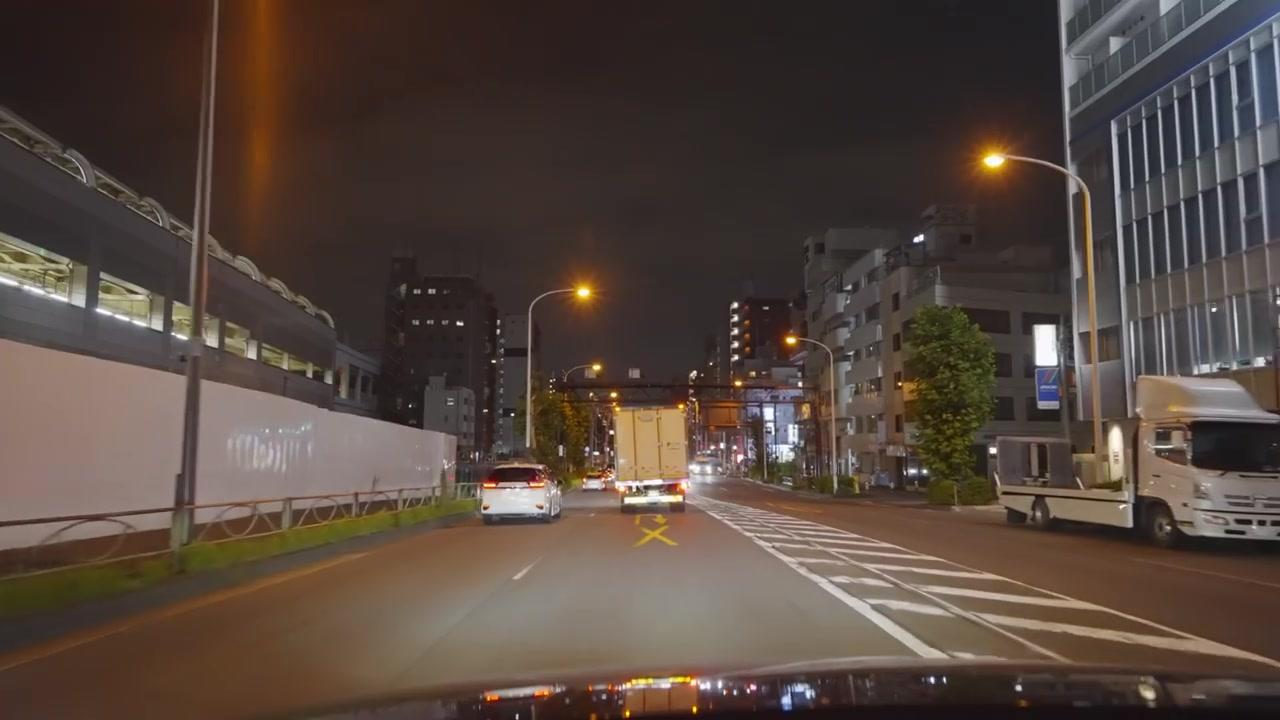car: (479, 458, 564, 525), (688, 460, 723, 480), (581, 474, 605, 490)
traffic light: (728, 301, 751, 365), (781, 330, 800, 359)
truck: (988, 372, 1280, 549), (614, 408, 690, 511)
